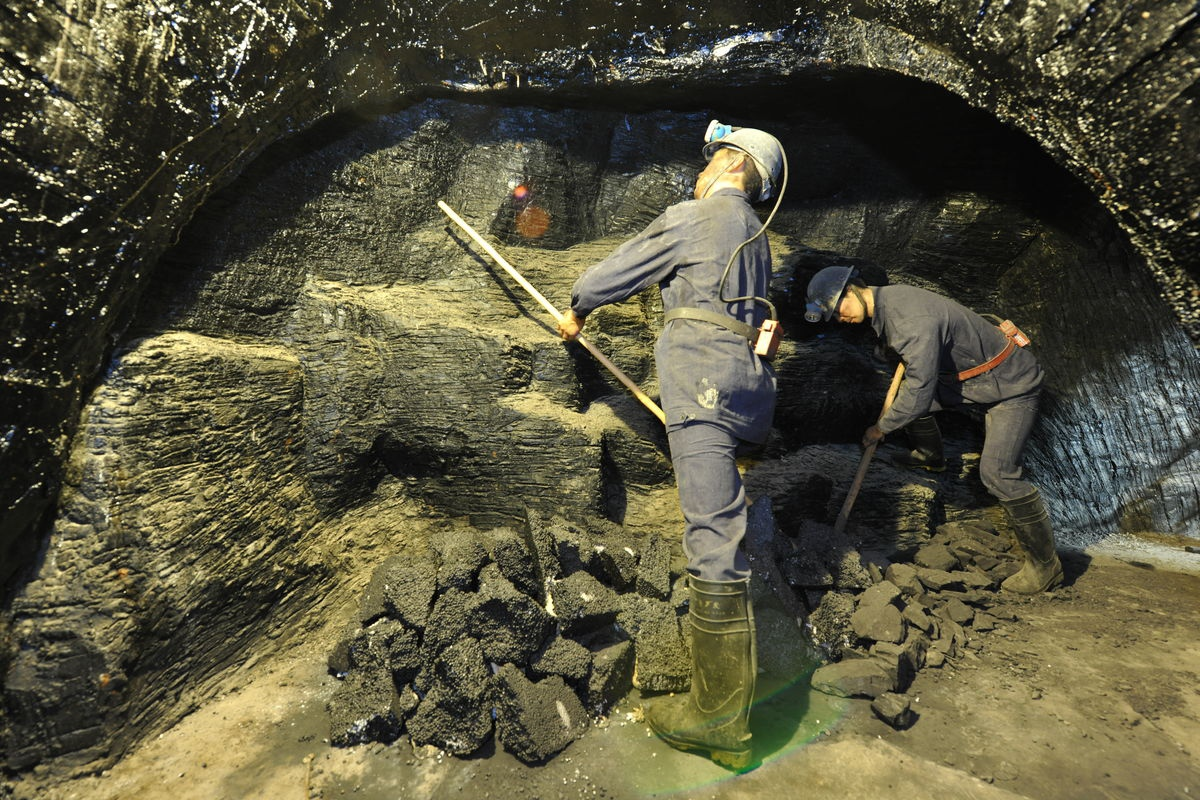helmet: (677, 110, 819, 214), (803, 252, 892, 331)
